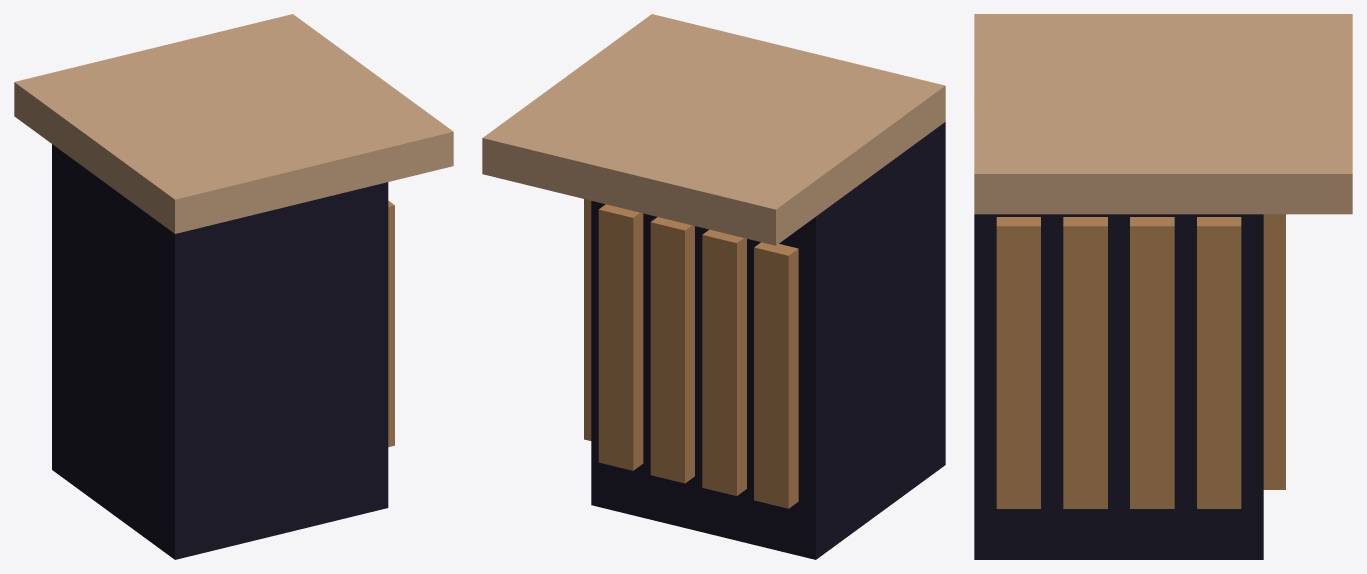
The model's file is bar_corner.gltf.
The picture shows the model from 3 angles, left to right: view 1: azimuth 30°, elevation 25°; view 2: azimuth 150°, elevation 25°; view 3: azimuth 270°, elevation 25°; orthographic projection. The views are drawn at different scales.
Parts seen in each view (by area): view 1: Layer.1; view 2: Layer.1; view 3: Layer.1.
Boxes of the visible parts, x1,y1,x2,y2 form: Layer.1: (14,14,453,559); Layer.1: (482,14,945,559); Layer.1: (974,14,1352,559).
Size of the model in its own units: 17 by 21 by 17.
